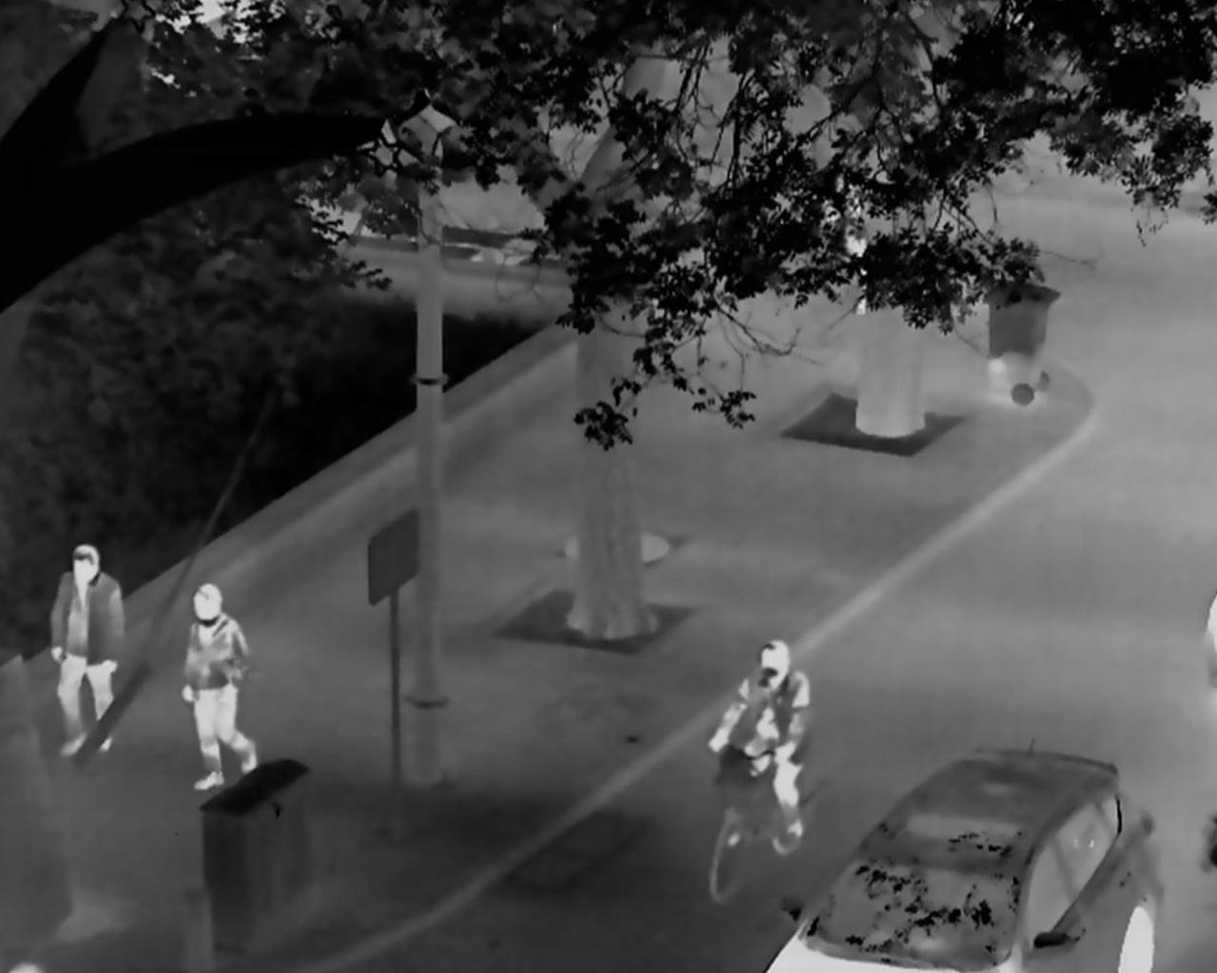person: (707, 638, 811, 854), (180, 582, 260, 791), (48, 543, 126, 757)
